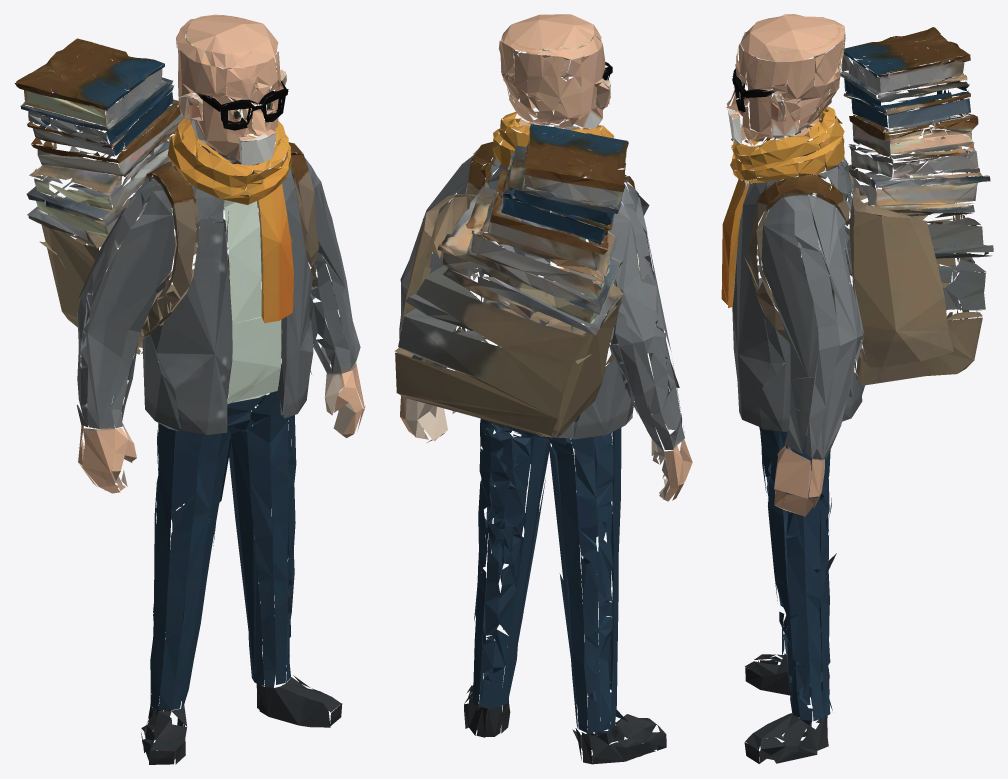
The model's file is habitant.glb.
3 renders of one model, left to right at view 1: azimuth 30°, elevation 25°; view 2: azimuth 150°, elevation 25°; view 3: azimuth 270°, elevation 25°, orthographic. The views are drawn at different scales.
Parts seen in each view (by area): view 1: world; view 2: world; view 3: world.
Boxes of the visible parts, box(x1,y1,x2,y2) form: world: box(15, 14, 365, 764); world: box(394, 14, 692, 764); world: box(721, 14, 993, 763).
Bounding box in the file's own units: 0.4215 × 1 × 0.3565.
1 material, 1 textured.
